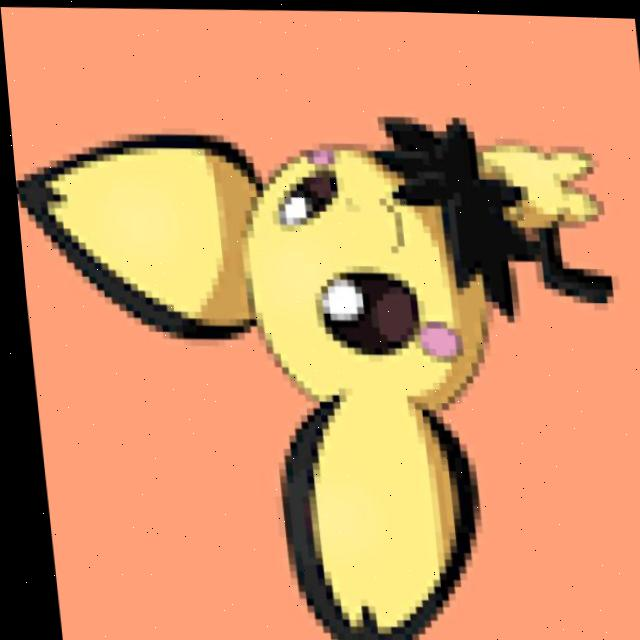pichu: (5, 77, 640, 640)
